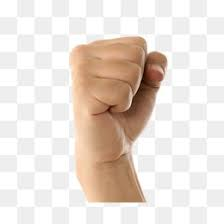fist: (72, 37, 167, 156)
